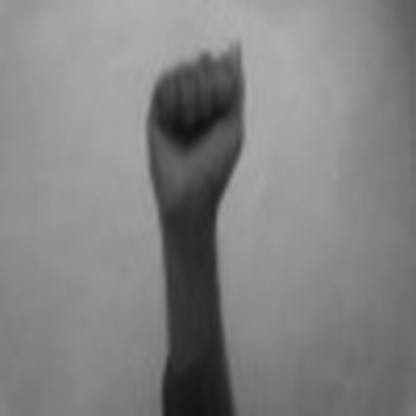a: (139, 27, 249, 219)
